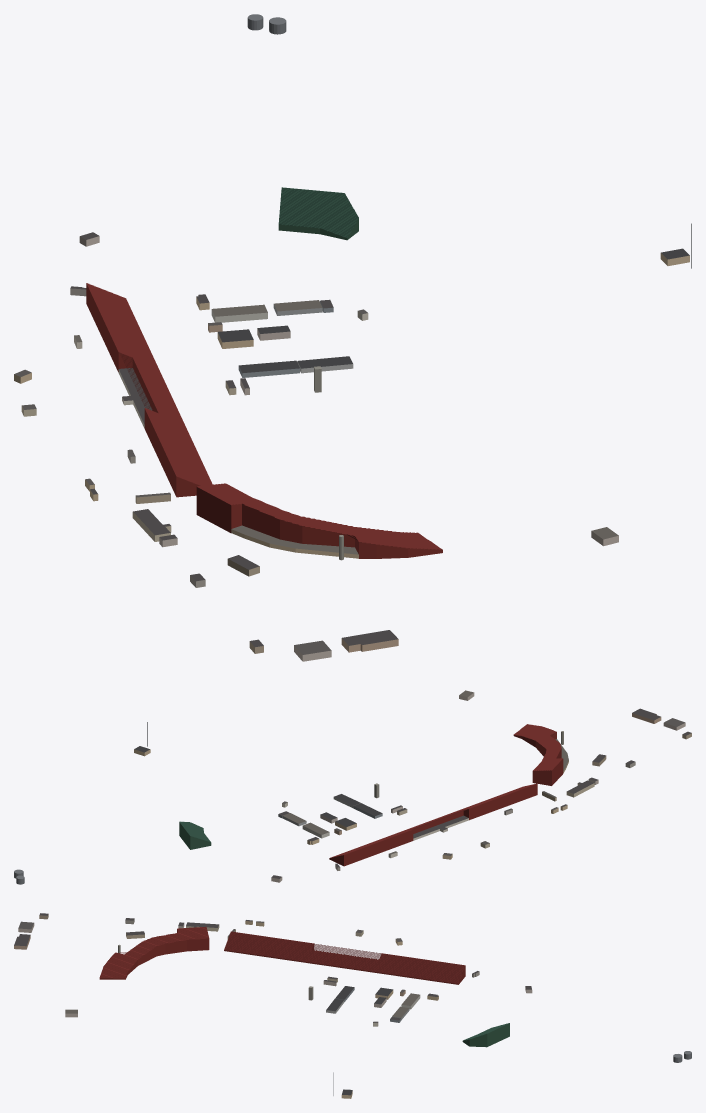
Rendered from scenery.glb.
3 views of the same model, one above another, from view 1: azimuth 30°, elevation 25°; view 2: azimuth 150°, elevation 25°; view 3: azimuth 270°, elevation 25° (orthographic). The views are drawn at different scales.
Visible parts, largest first — view 1: chunk_14_15, chunk_14_14, chunk_15_14, chunk_14_16, chunk_15_15; view 2: chunk_14_14, chunk_14_15, chunk_15_14, chunk_14_16, chunk_15_15; view 3: chunk_14_14, chunk_14_15, chunk_15_14, chunk_14_16, chunk_15_15.
Boxes of the visible parts, bbox=[...] form: chunk_14_15: bbox=[85, 449, 442, 587]; chunk_14_14: bbox=[14, 283, 212, 497]; chunk_15_14: bbox=[70, 187, 368, 377]; chunk_14_16: bbox=[249, 535, 398, 661]; chunk_15_15: bbox=[225, 356, 353, 395]; chunk_14_14: bbox=[329, 783, 537, 866]; chunk_14_15: bbox=[504, 724, 635, 815]; chunk_15_14: bbox=[179, 801, 382, 882]; chunk_14_16: bbox=[561, 708, 691, 744]; chunk_15_15: bbox=[333, 783, 407, 815]; chunk_14_14: bbox=[224, 929, 465, 984]; chunk_14_15: bbox=[99, 918, 264, 979]; chunk_15_14: bbox=[335, 971, 532, 1047]; chunk_14_16: bbox=[14, 913, 120, 953]; chunk_15_15: bbox=[308, 976, 344, 1013].
Bounding box in the file's own units: 841 × 64.15 × 1289.
